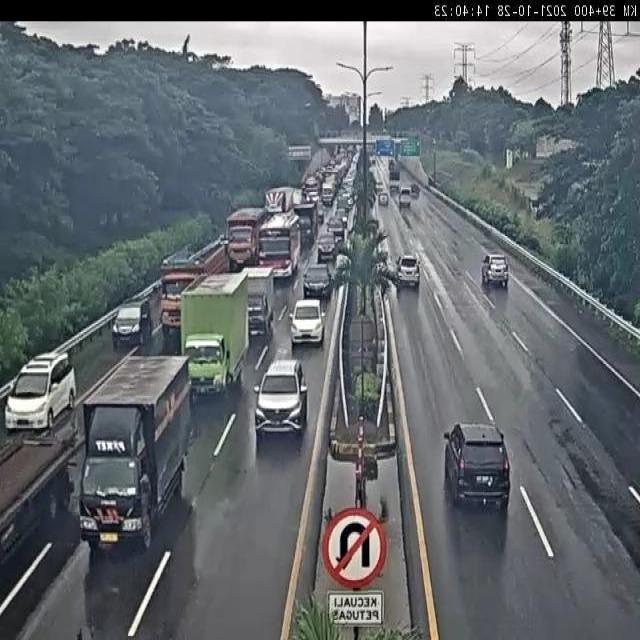Bus: (258, 208, 302, 279), (302, 175, 321, 204)
Car: (442, 422, 511, 510), (4, 350, 76, 430), (253, 358, 309, 444), (113, 293, 156, 352), (289, 298, 325, 347), (303, 263, 333, 299), (481, 253, 510, 287), (396, 254, 421, 288), (316, 232, 337, 263), (327, 216, 346, 244), (336, 189, 354, 215), (343, 178, 356, 204), (399, 186, 412, 208), (378, 192, 389, 206), (375, 180, 383, 194)
Truck: (79, 358, 193, 554), (181, 271, 254, 398), (158, 237, 232, 345), (226, 207, 267, 273), (245, 268, 277, 339), (293, 195, 318, 248)
